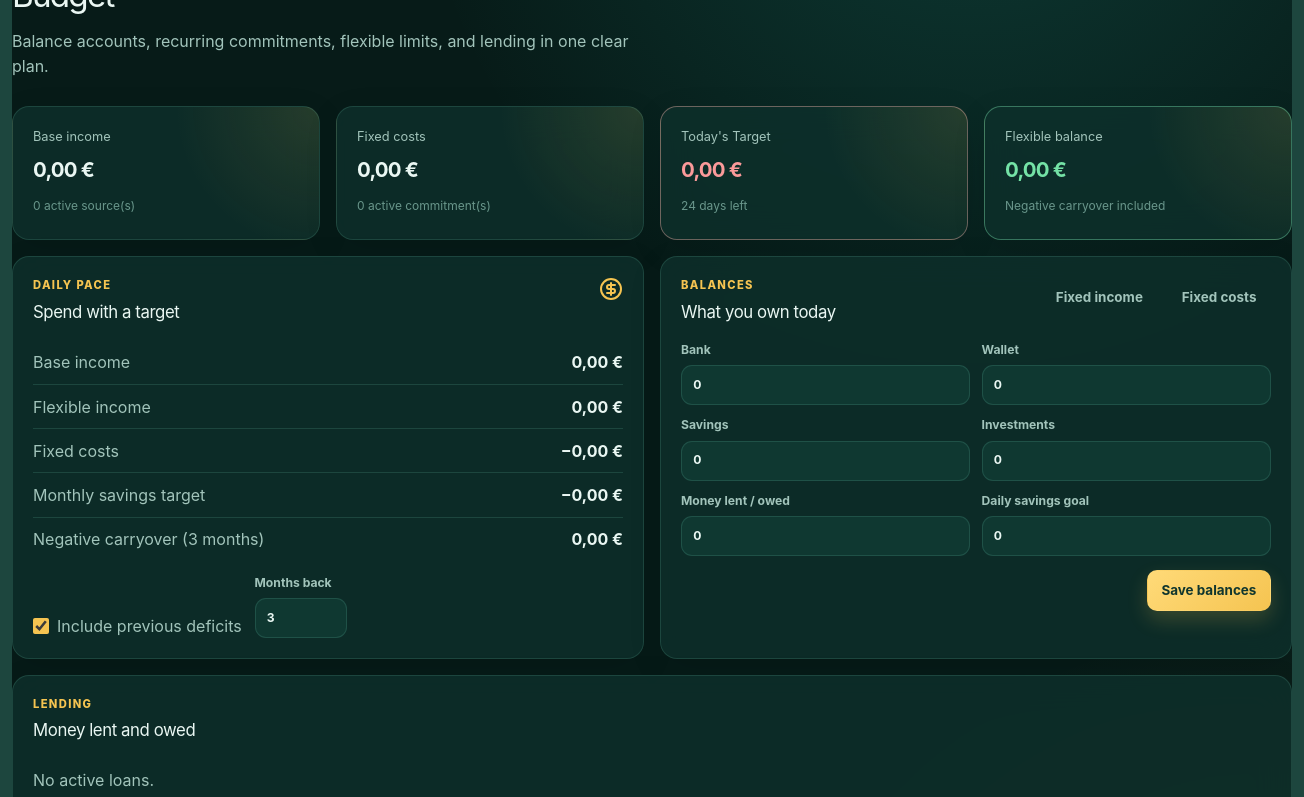
BudgetScreen lending › opens and closes fixed income and fixed cost views from balances
Expected: the heading "Income sources" is not shown
Click the button "Fixed income" at (1099, 297), box top-left (1041, 277), bottom-right (1158, 317)
(page scrolled)
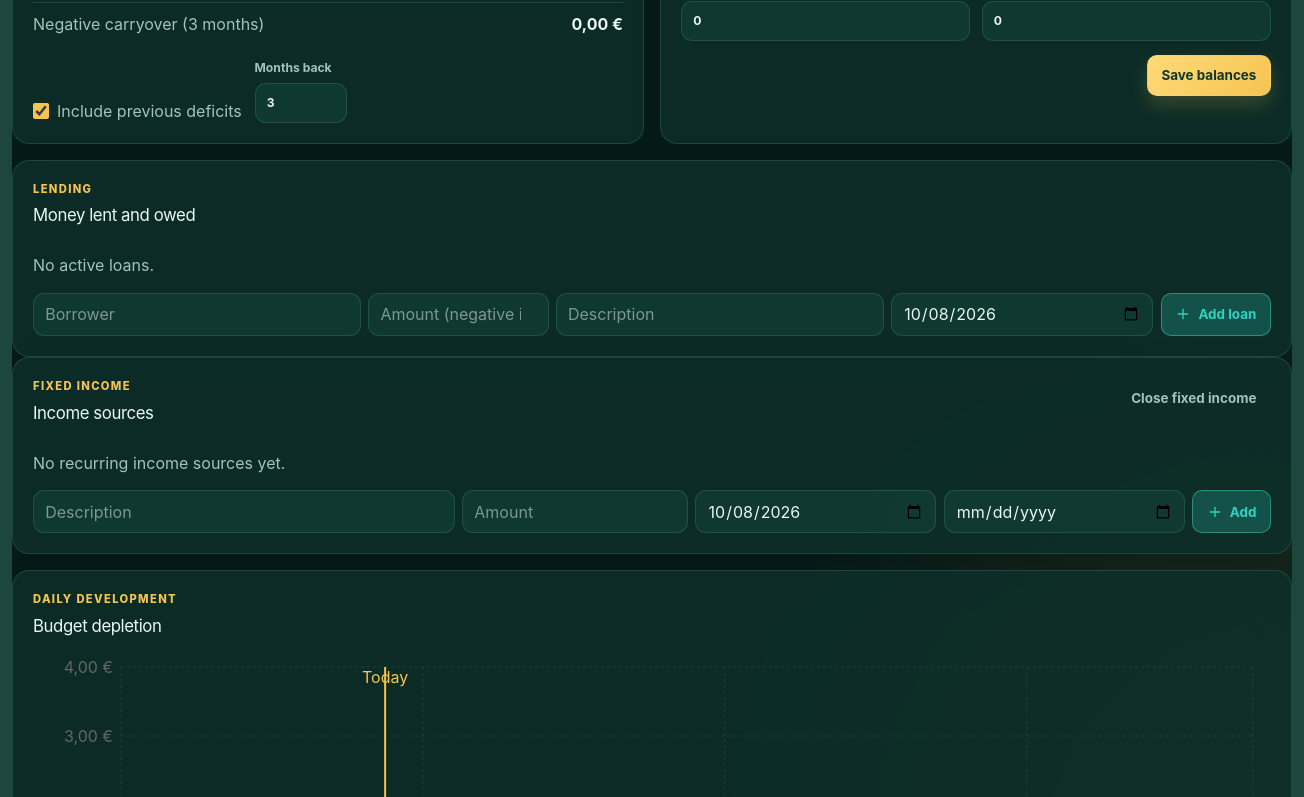
Expected: the heading "Income sources" is shown, top-left (33, 401), bottom-right (154, 426)
Click the button "Close fixed income" at (1194, 398), box top-left (1117, 378), bottom-right (1271, 418)
(page scrolled)
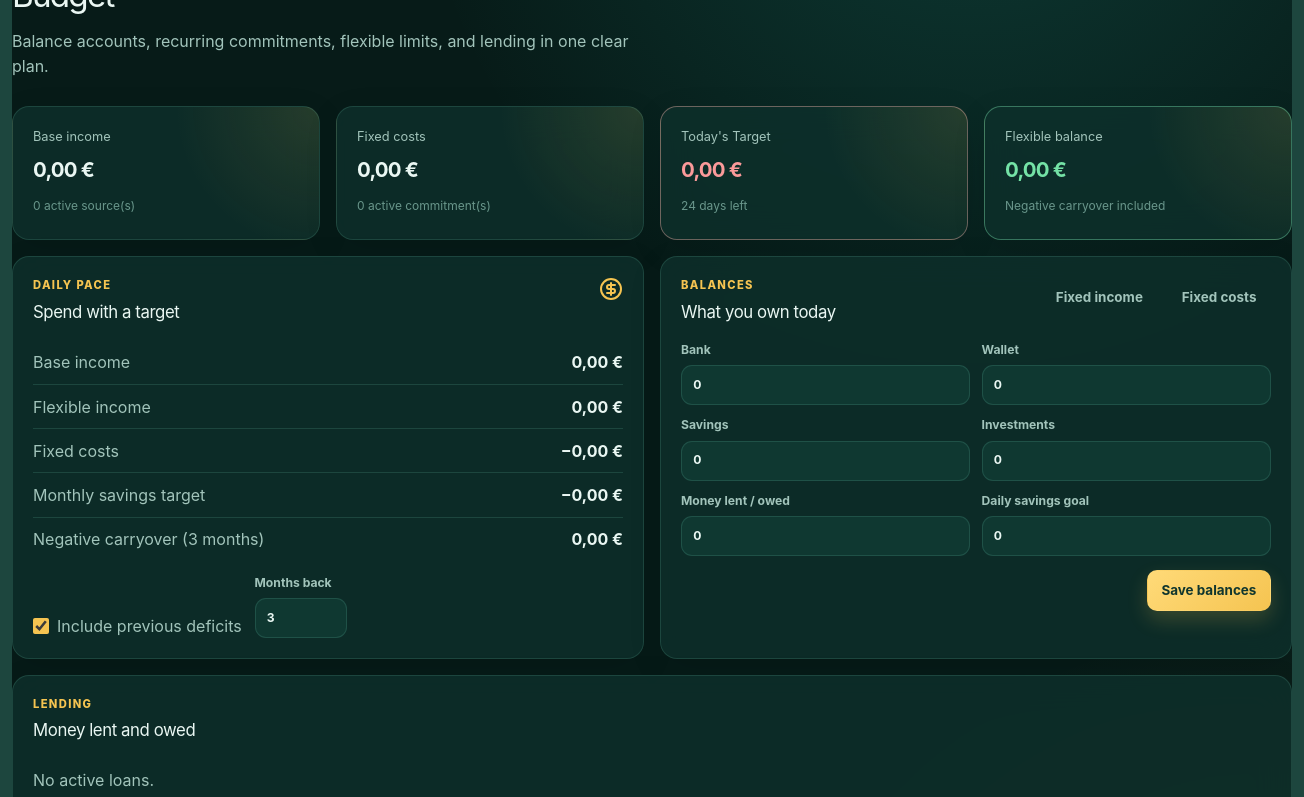
Expected: the heading "Income sources" is gone
Click the button "Fixed costs" at (1219, 297), box top-left (1167, 277), bottom-right (1271, 317)
(page scrolled)
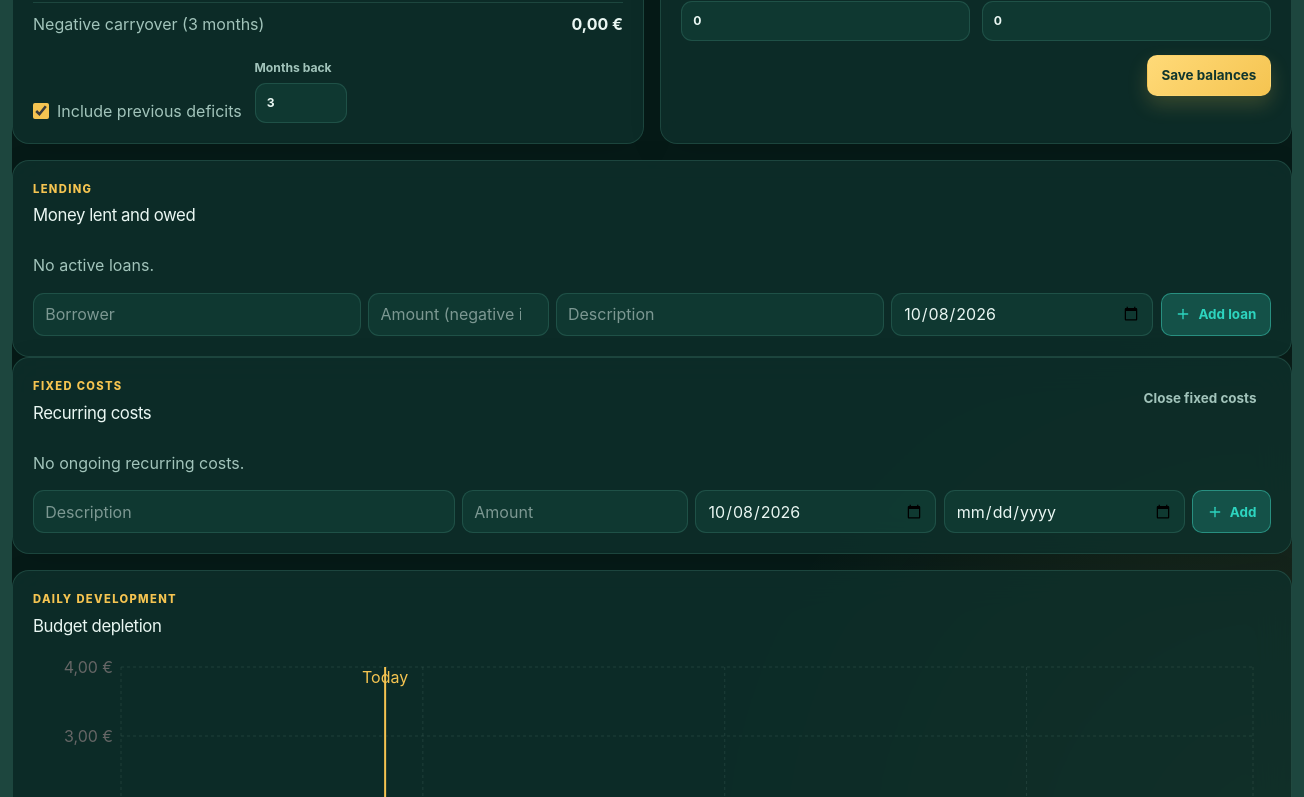
Expected: the heading "Recurring costs" is shown, top-left (33, 401), bottom-right (151, 426)
Click the button "Close fixed costs" at (1200, 398), box top-left (1129, 378), bottom-right (1271, 418)
(page scrolled)
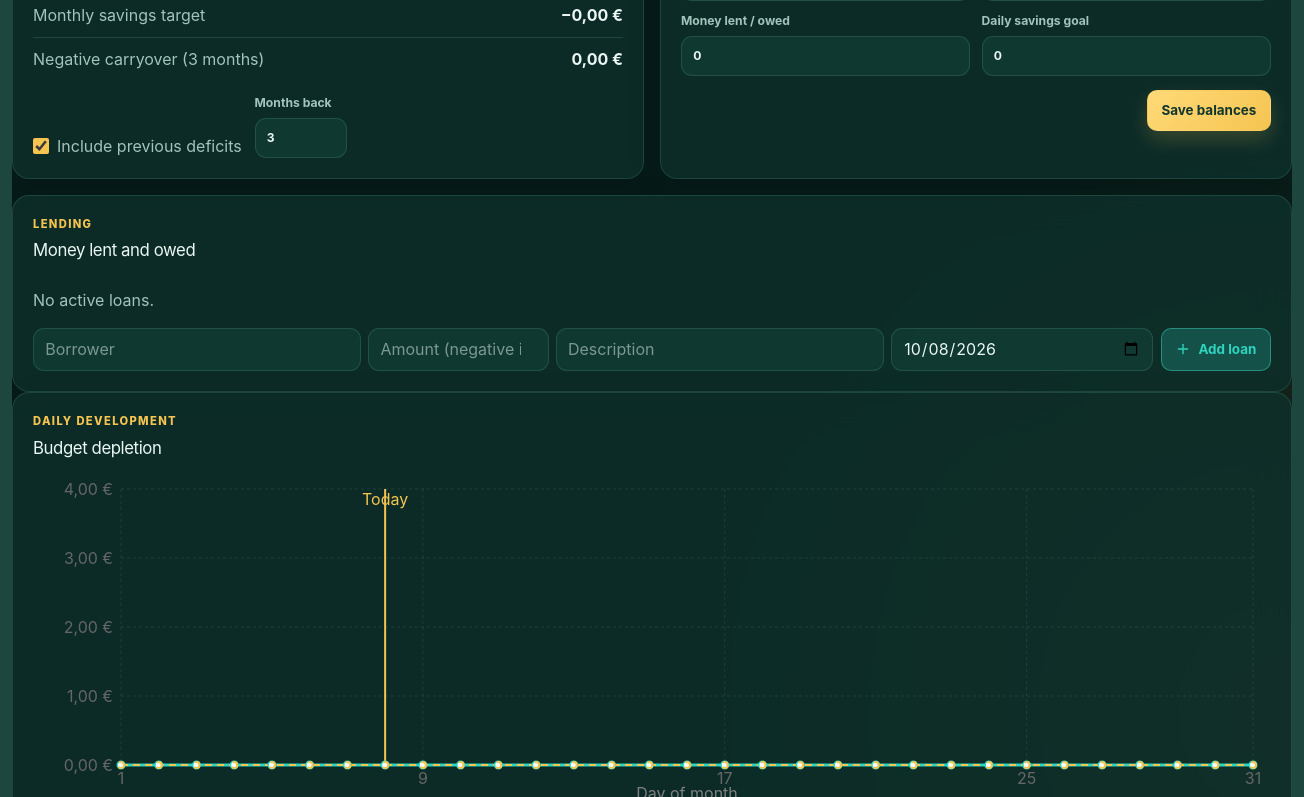
Expected: the heading "Recurring costs" is gone
